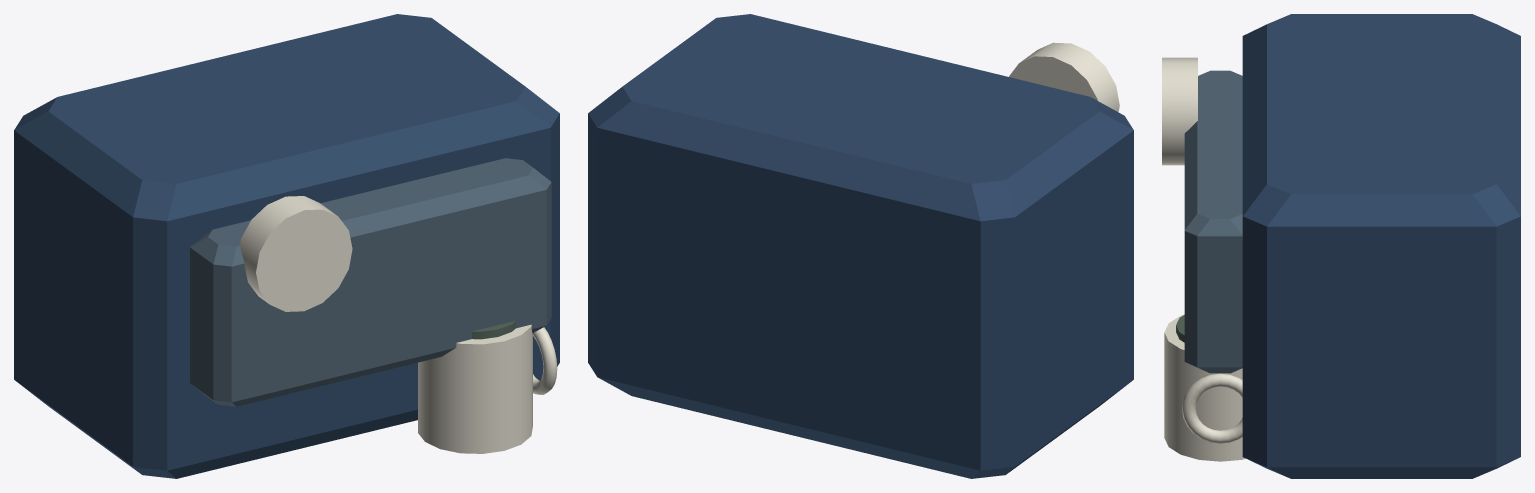
Rendered from espresso.glb.
3 renders of one model, left to right at view 1: azimuth 30°, elevation 25°; view 2: azimuth 150°, elevation 25°; view 3: azimuth 270°, elevation 25°, orthographic. The views are drawn at different scales.
Visible parts, largest first — view 1: _MeshInstance3D_1319, _MeshInstance3D_1320, _MeshInstance3D_1321, _MeshInstance3D_1324, _MeshInstance3D_1323; view 2: _MeshInstance3D_1319, _MeshInstance3D_1324; view 3: _MeshInstance3D_1319, _MeshInstance3D_1320, _MeshInstance3D_1321, _MeshInstance3D_1324, _MeshInstance3D_1323.
Boxes of the visible parts, bbox=[...] form: _MeshInstance3D_1319: bbox=[14, 14, 559, 478]; _MeshInstance3D_1320: bbox=[190, 158, 551, 406]; _MeshInstance3D_1321: bbox=[418, 324, 532, 453]; _MeshInstance3D_1324: bbox=[240, 196, 352, 311]; _MeshInstance3D_1323: bbox=[533, 327, 557, 394]; _MeshInstance3D_1319: bbox=[588, 14, 1133, 478]; _MeshInstance3D_1324: bbox=[1009, 42, 1119, 112]; _MeshInstance3D_1319: bbox=[1242, 14, 1520, 478]; _MeshInstance3D_1320: bbox=[1184, 70, 1242, 373]; _MeshInstance3D_1321: bbox=[1164, 315, 1245, 461]; _MeshInstance3D_1324: bbox=[1162, 57, 1197, 165]; _MeshInstance3D_1323: bbox=[1182, 373, 1242, 443].
Size of the model in its own units: 0.53 by 0.35 by 0.4.
